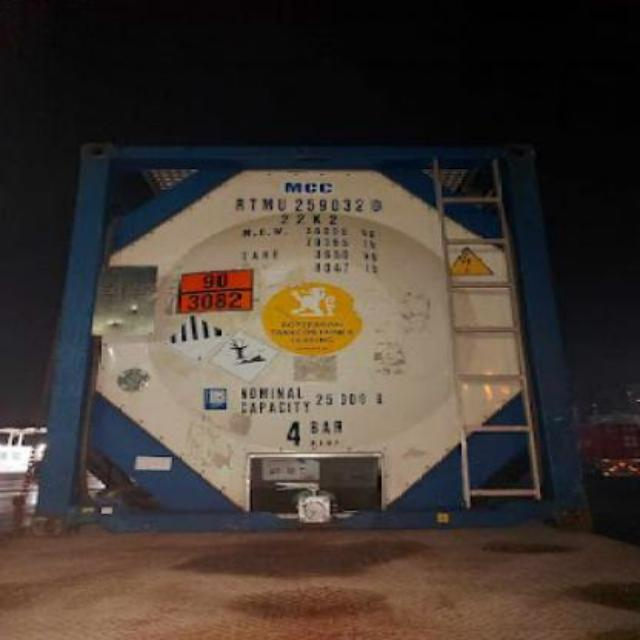0: (328, 194, 342, 216), (370, 198, 382, 212)
2: (352, 188, 366, 218), (292, 196, 304, 212)
3: (340, 190, 352, 216)
5: (304, 193, 316, 211)
9: (316, 193, 328, 214)
M: (260, 192, 274, 214)
R: (234, 198, 246, 212)
T: (246, 193, 258, 217)
U: (274, 192, 290, 212)
